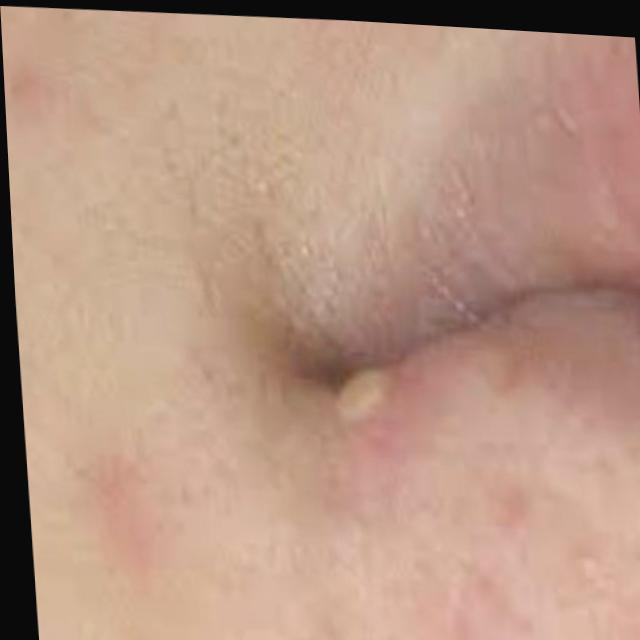pustule: (290, 312, 426, 452)
